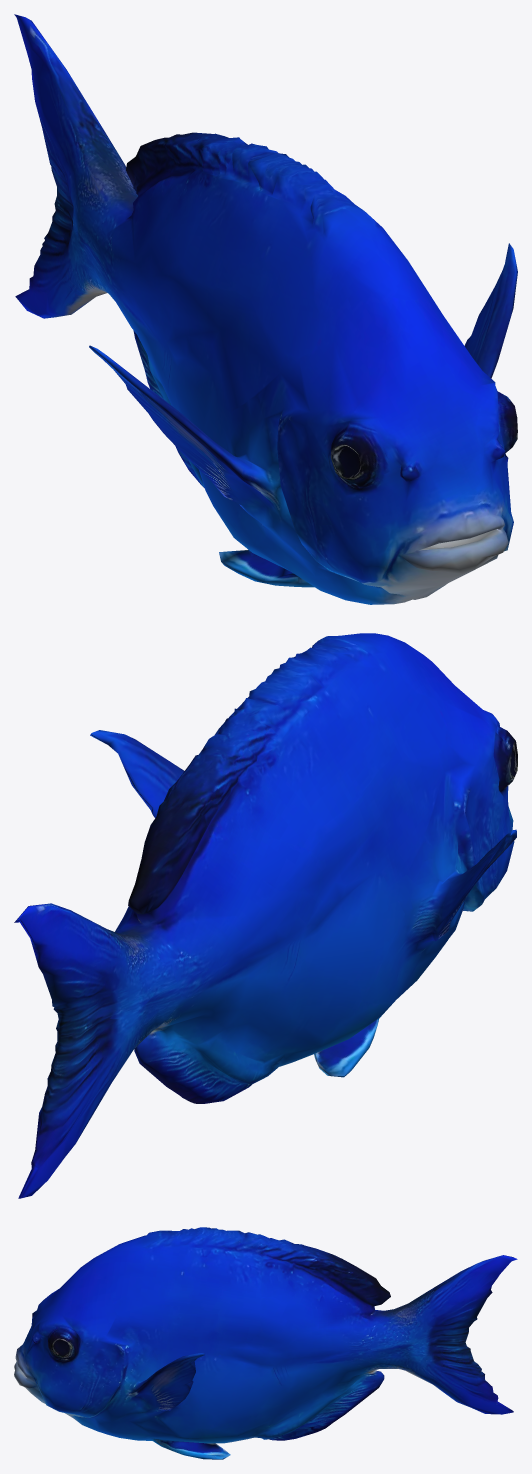
File: fish-blue.glb
3 renders of one model, top to bottom at view 1: azimuth 30°, elevation 25°; view 2: azimuth 150°, elevation 25°; view 3: azimuth 270°, elevation 25°, orthographic. The views are drawn at different scales.
Parts seen in each view (by area): view 1: tripo_node_1932b13b-7489-4327-ae9f-5bc9009867ba; view 2: tripo_node_1932b13b-7489-4327-ae9f-5bc9009867ba; view 3: tripo_node_1932b13b-7489-4327-ae9f-5bc9009867ba.
Part boxes in pixels (x1,y1,x2,y2): tripo_node_1932b13b-7489-4327-ae9f-5bc9009867ba: (14,14,517,604); tripo_node_1932b13b-7489-4327-ae9f-5bc9009867ba: (14,633,517,1198); tripo_node_1932b13b-7489-4327-ae9f-5bc9009867ba: (14,1227,517,1459).
Bounding box in the file's own units: 0.5301 × 0.4691 × 1.
Materials: 1 (1 with a texture image).
